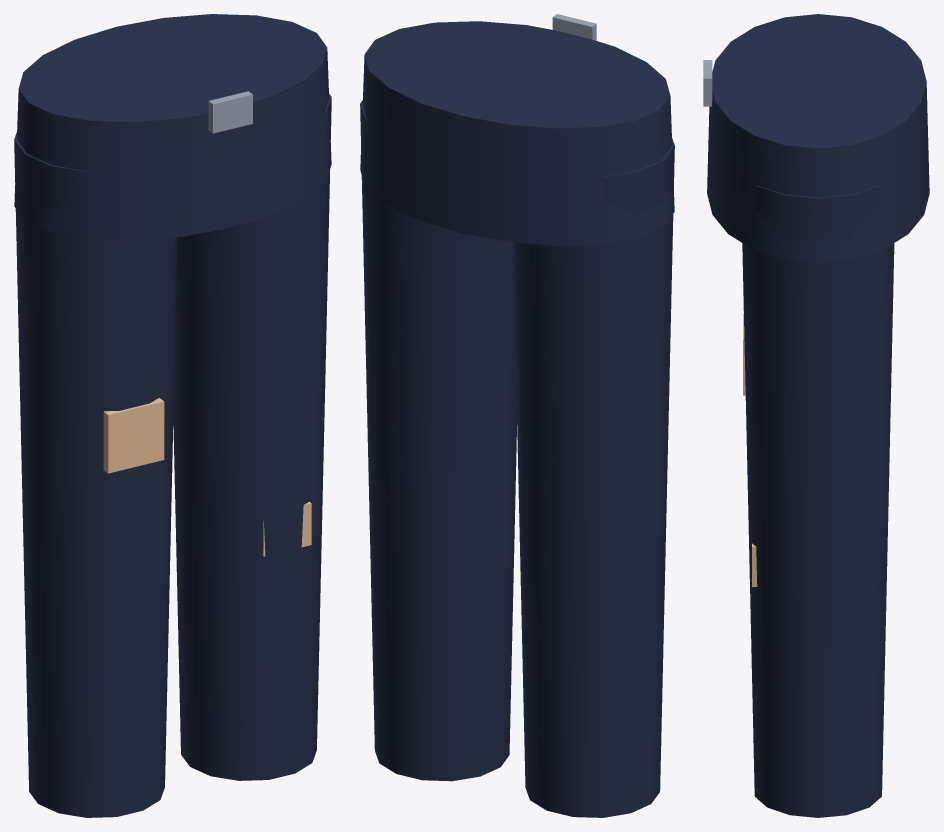
Rendered from bottom_cool_1.glb.
3 renders of one model, left to right at view 1: azimuth 30°, elevation 25°; view 2: azimuth 150°, elevation 25°; view 3: azimuth 270°, elevation 25°, orthographic. The views are drawn at different scales.
Bounding box in the file's own units: 0.37 × 0.855 × 0.2558.
